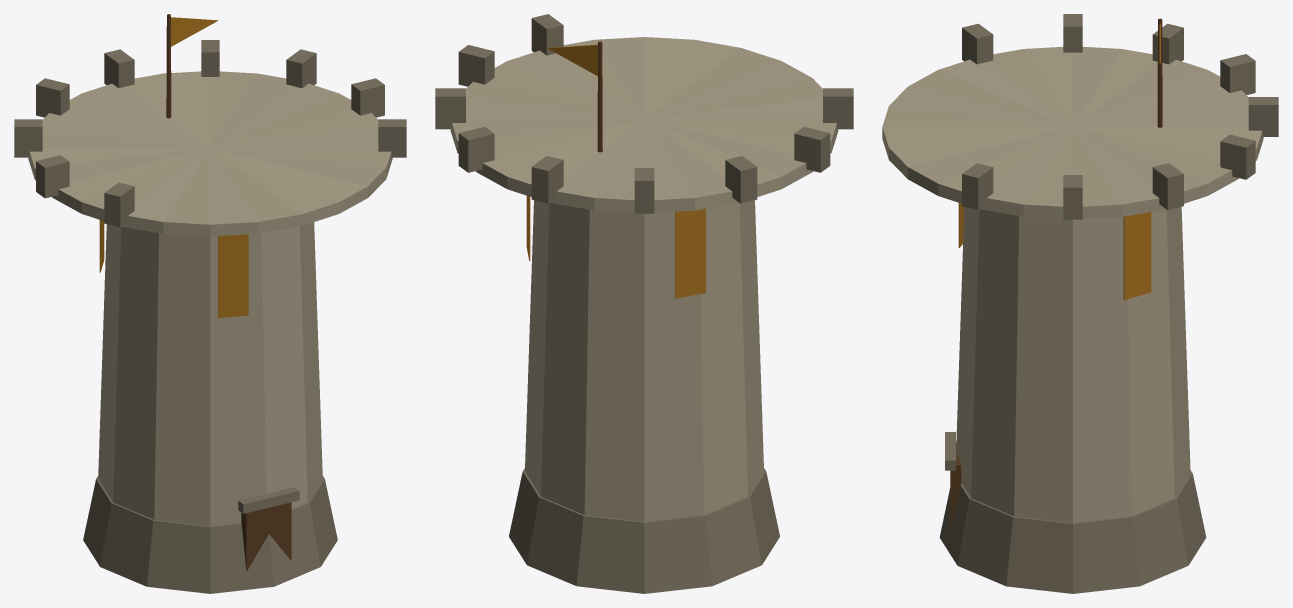
File: tower_meadow.glb
3 views of the same model, side by side, from view 1: azimuth 30°, elevation 25°; view 2: azimuth 150°, elevation 25°; view 3: azimuth 270°, elevation 25° (orthographic). The views are drawn at different scales.
Visible parts, largest first — view 1: tower_meadow; view 2: tower_meadow; view 3: tower_meadow.
Boxes of the visible parts, <box> form: tower_meadow: <box>14,14,406,593</box>; tower_meadow: <box>435,14,853,593</box>; tower_meadow: <box>882,14,1278,593</box>.
Size of the model in its own units: 15.1 by 21 by 14.55.
